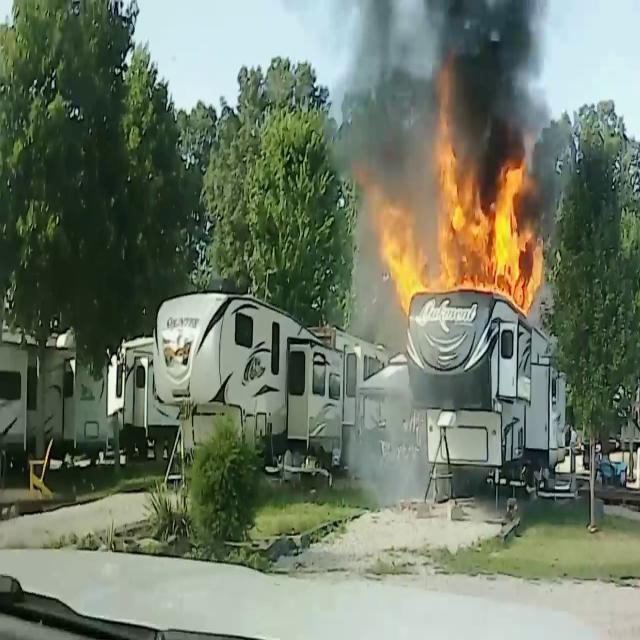Fire: (376, 112, 548, 311)
Smoke: (329, 1, 561, 183), (326, 1, 432, 220)
